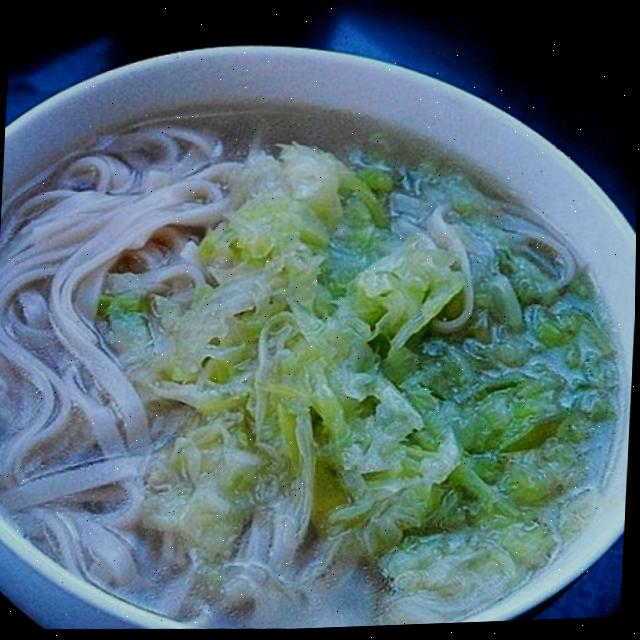面条主食: (0, 89, 639, 640)
